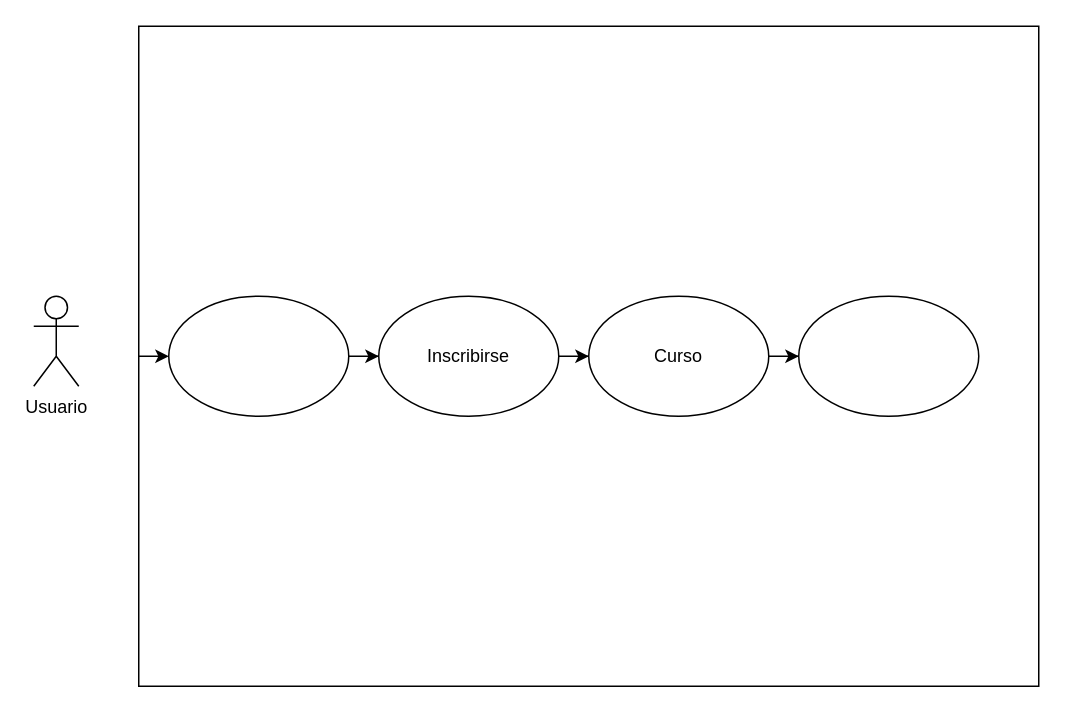
This 1065x713 diagram has some shape labels left out. Each missing label, with the centre of its shape:
"Ingresar" goes at (x=258, y=355).
"Ver Lección" goes at (x=888, y=355).
